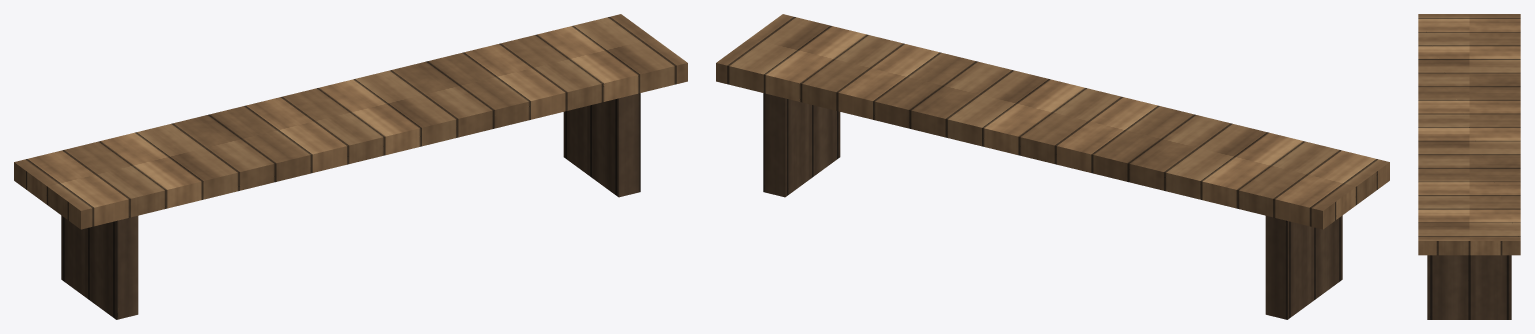
The model's file is Bench_LOD2.gltf.
3 views of the same model, side by side, from view 1: azimuth 30°, elevation 25°; view 2: azimuth 150°, elevation 25°; view 3: azimuth 270°, elevation 25° (orthographic). The views are drawn at different scales.
Parts seen in each view (by area): view 1: Bench_LOD2; view 2: Bench_LOD2; view 3: Bench_LOD2.
Part boxes in pixels (x1=…): Bench_LOD2: x1=14, y1=14, x2=687, y2=319; Bench_LOD2: x1=716, y1=14, x2=1389, y2=319; Bench_LOD2: x1=1418, y1=14, x2=1520, y2=319.
Bounding box in the file's own units: 2.78 × 0.54 × 0.53.
Materials: 2 (2 with a texture image).
